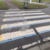zebra: (1, 11, 50, 40)
